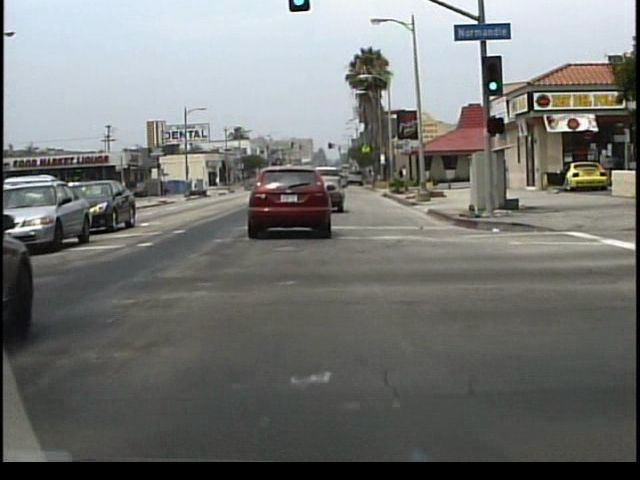person: (608, 150, 626, 198)
